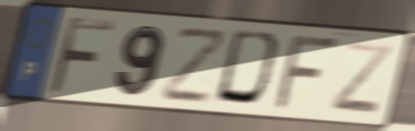9: (111, 22, 167, 100)
D: (211, 27, 287, 111)
F: (45, 14, 117, 97), (270, 33, 344, 112)
Z: (159, 28, 233, 106), (328, 39, 396, 118)
